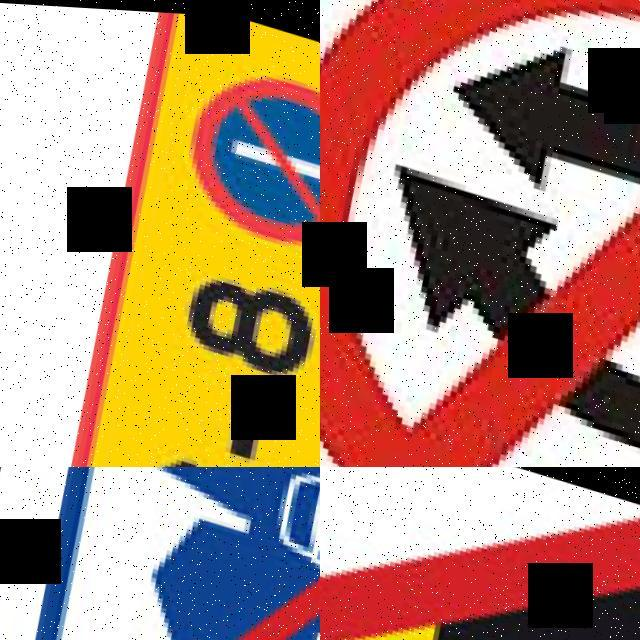145: (320, 467, 640, 640)
181: (3, 1, 320, 467)
53: (0, 467, 320, 640)
No passing: (320, 0, 640, 467)
